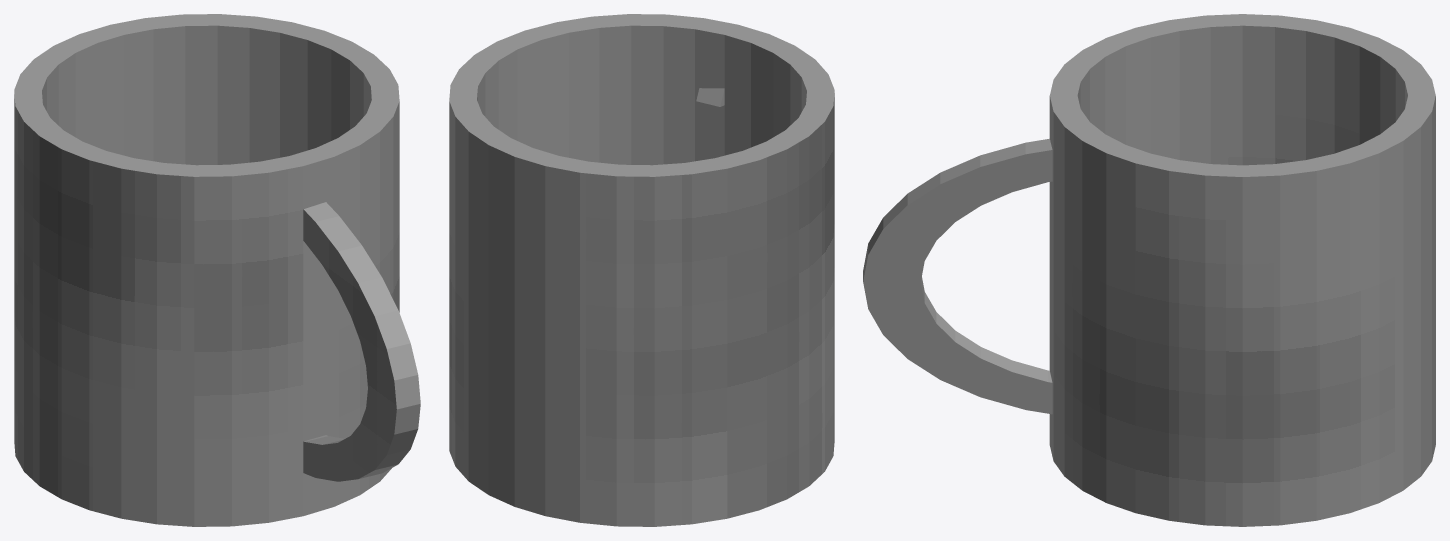
File: cup.fbx
3 renders of one model, left to right at view 1: azimuth 30°, elevation 25°; view 2: azimuth 150°, elevation 25°; view 3: azimuth 270°, elevation 25°, orthographic.
Visible parts, largest first — view 1: Circle; view 2: Circle; view 3: Circle.
Part boxes in pixels (box(x1,y1,x2,y2)): Circle: box(14, 14, 420, 526); Circle: box(449, 14, 834, 526); Circle: box(863, 14, 1435, 526).
Size of the model in its own units: 50 by 50 by 74.18.
1 material, 1 textured.
